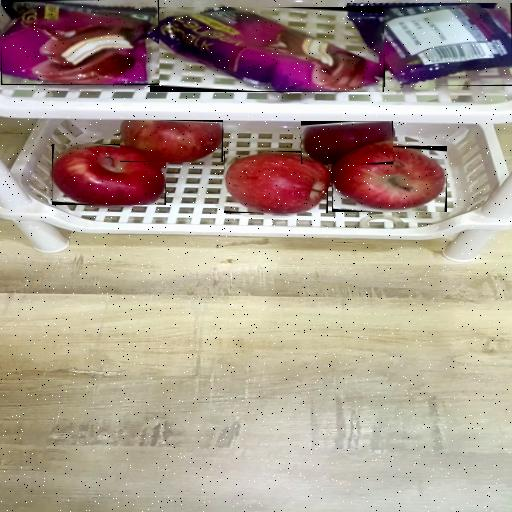Apple: (332, 146, 447, 212), (52, 144, 166, 205), (224, 151, 328, 213), (120, 120, 223, 162), (301, 121, 393, 164)
Choco Pie: (150, 7, 384, 92), (347, 4, 512, 88), (1, 0, 159, 85)
